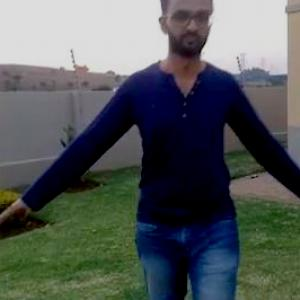land: (117, 72, 276, 299)
